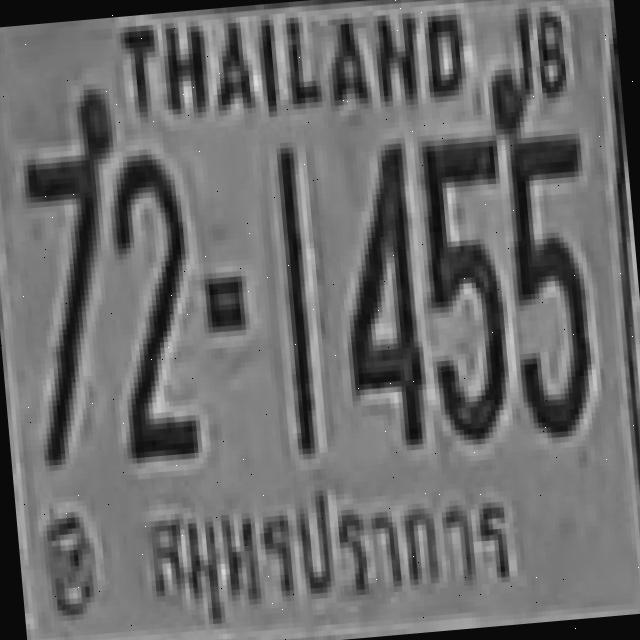2: (106, 152, 198, 410)
4: (329, 136, 426, 447)
5: (496, 128, 600, 434)
SamutPrakan: (131, 463, 528, 638)
